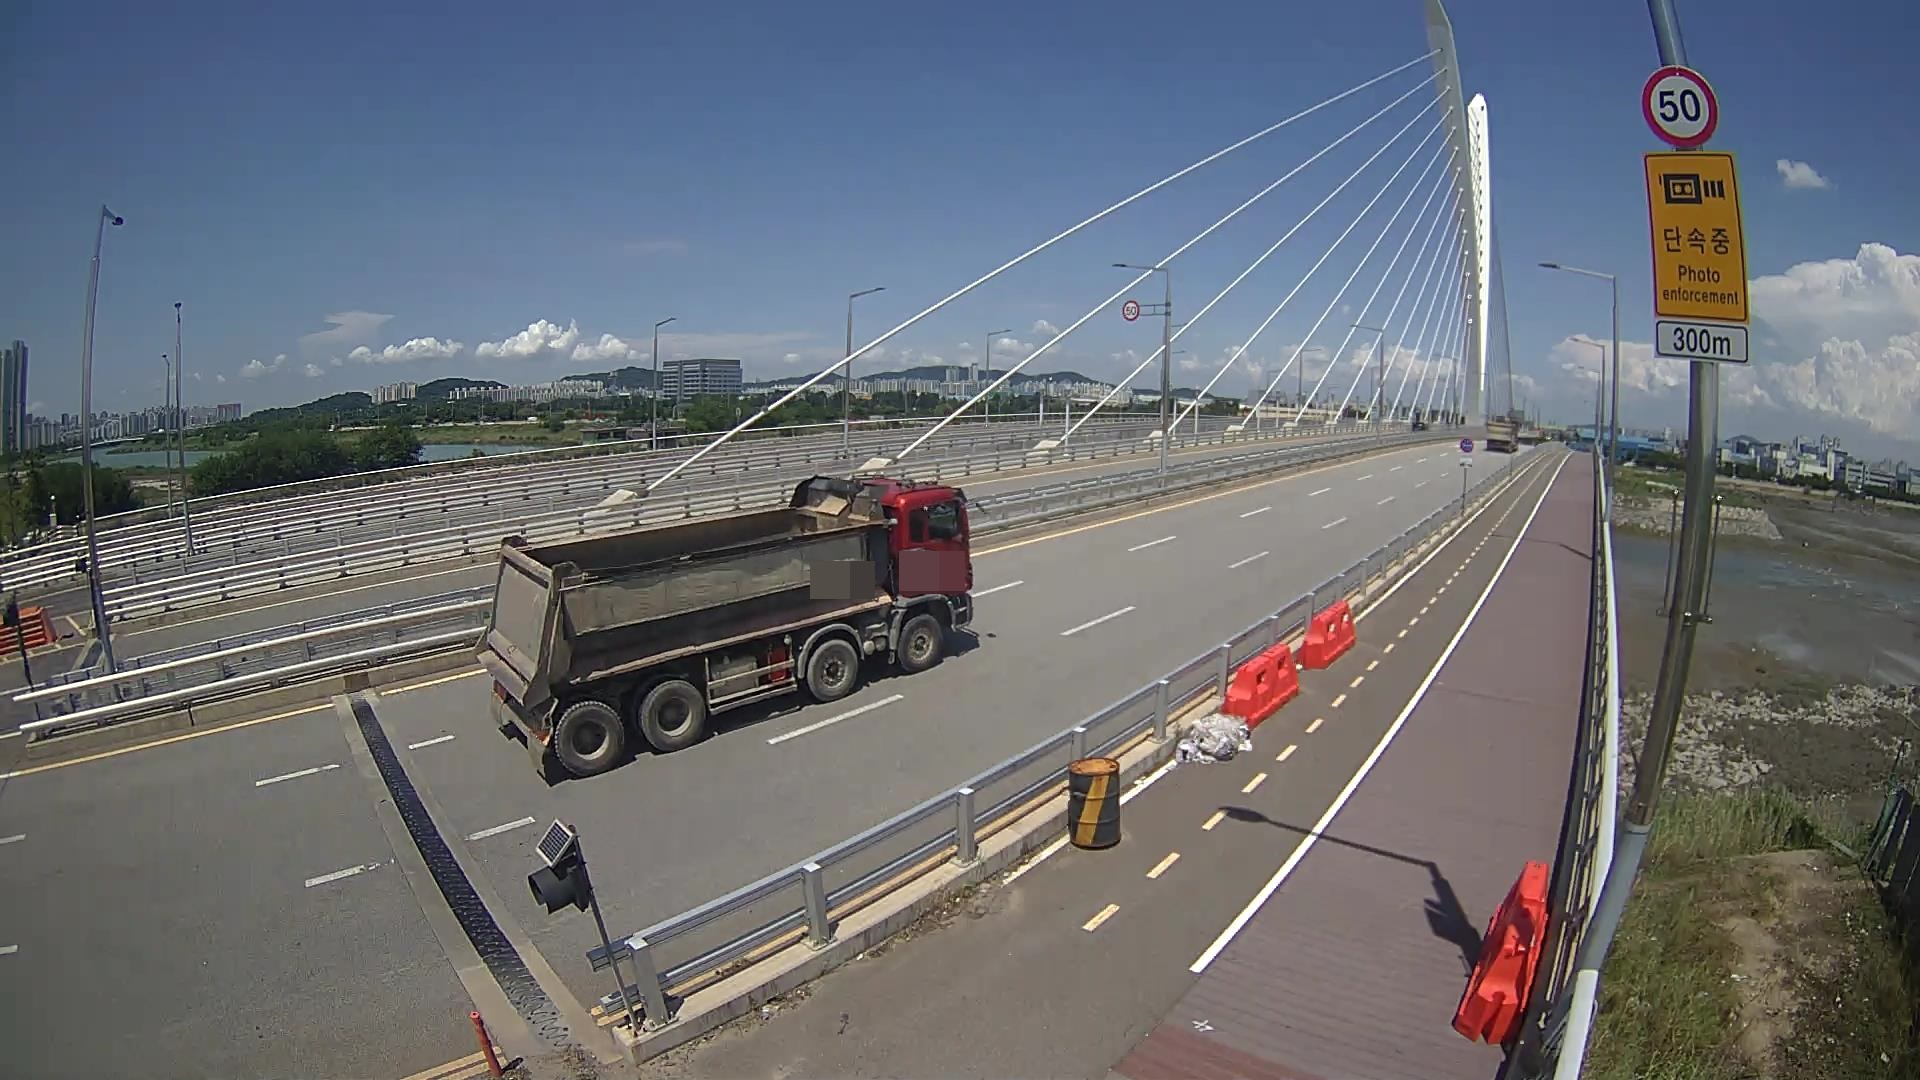정상차량: (475, 477, 985, 781)
